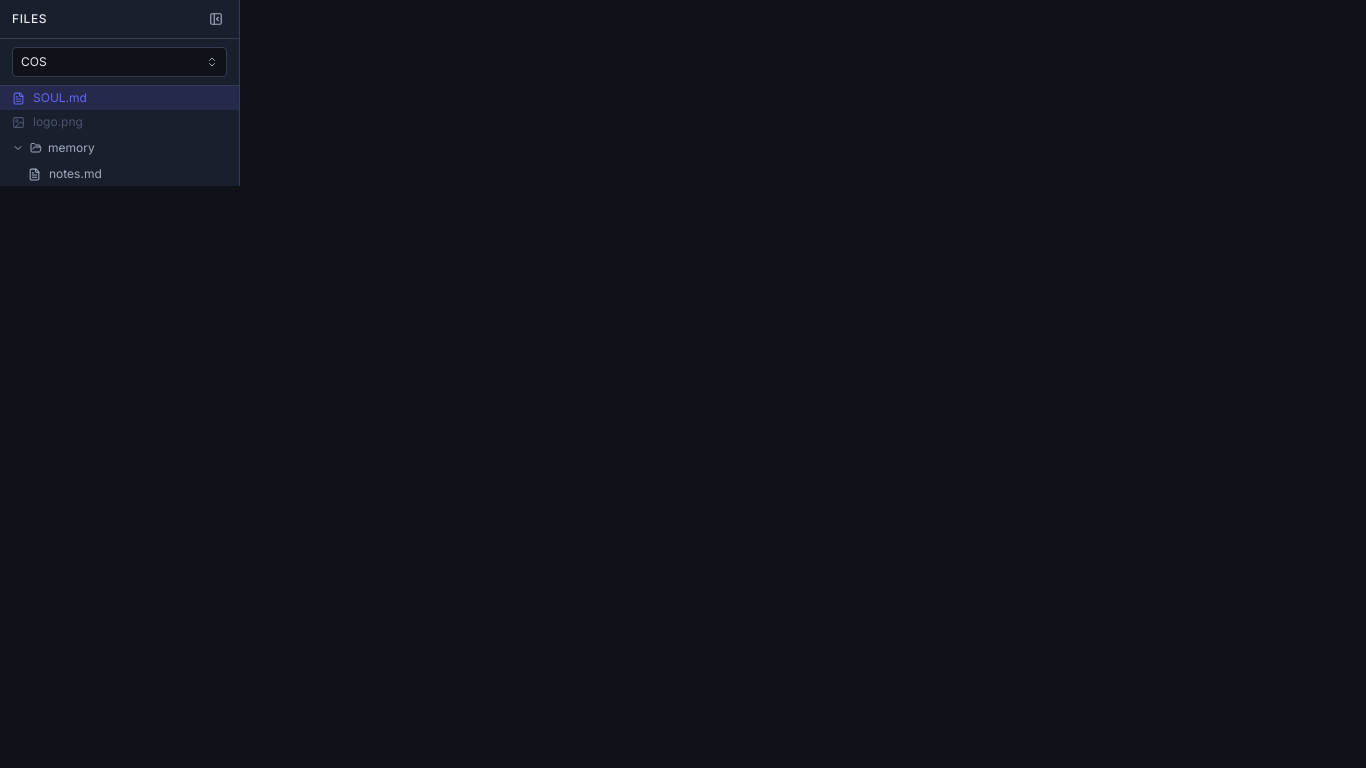
Test case: EditorSidebar › shows confirm dialog when switching files with dirty state
The image size is (1366, 768).
Click the button "notes.md" at [120, 174], box [0,162,239,186]
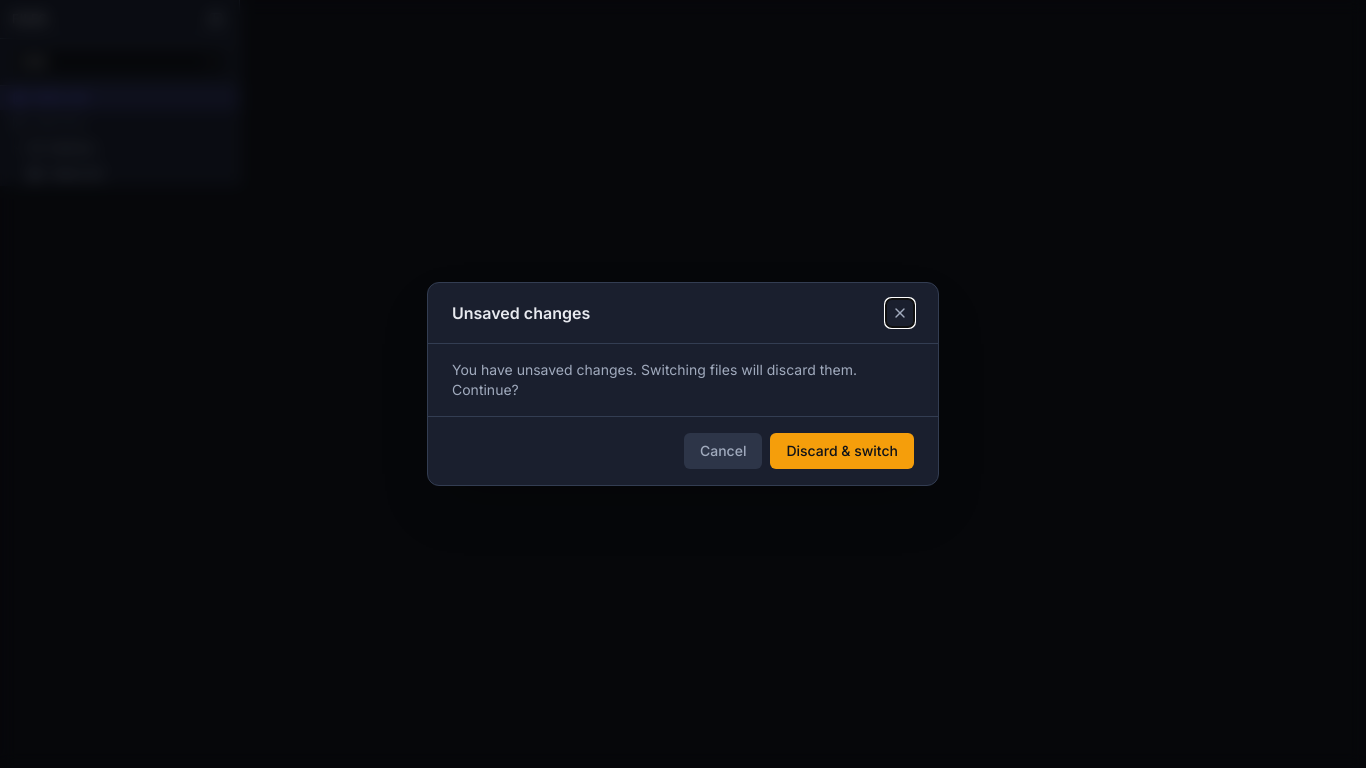
Now the heading "Unsaved changes" is shown, box [452,301,590,325]
